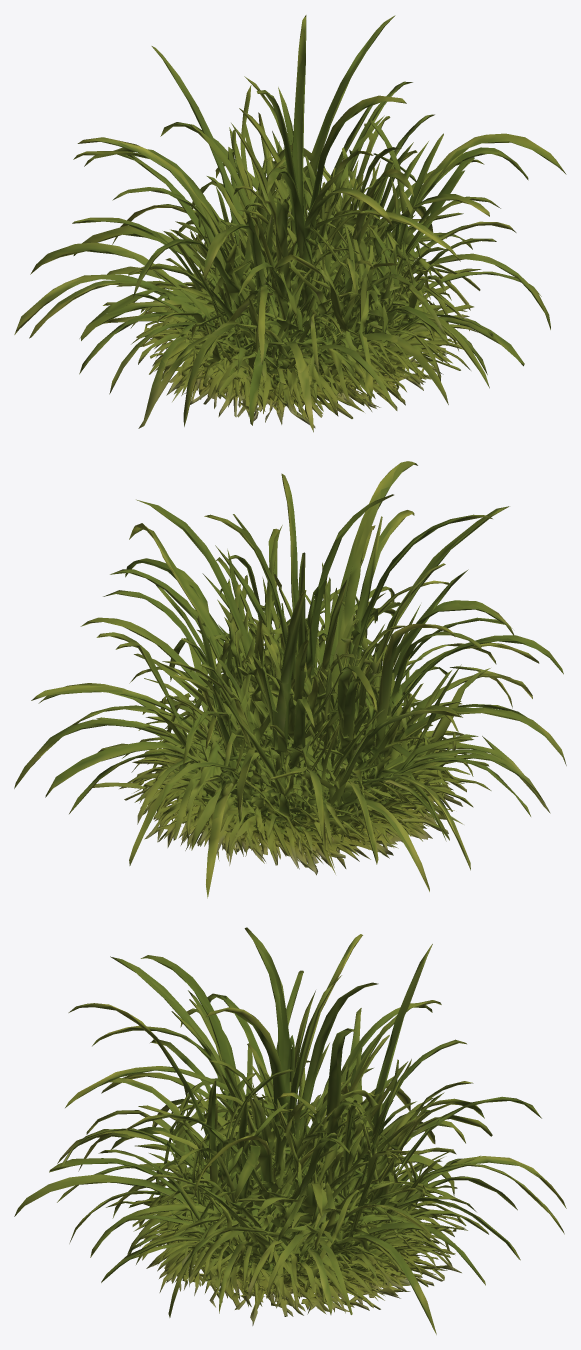
3 views of the same model, one above another, from view 1: azimuth 30°, elevation 25°; view 2: azimuth 150°, elevation 25°; view 3: azimuth 270°, elevation 25° (orthographic). The views are drawn at different scales.
Visible parts, largest first — view 1: meadow-grass.001; view 2: meadow-grass.001; view 3: meadow-grass.001.
Boxes of the visible parts, x1=… form: meadow-grass.001: x1=14, y1=15, x2=566, y2=432; meadow-grass.001: x1=14, y1=461, x2=566, y2=898; meadow-grass.001: x1=14, y1=927, x2=566, y2=1334.
Bounding box in the file's own units: 0.8452 × 0.5495 × 0.89.
Materials: 1 (1 with a texture image).
